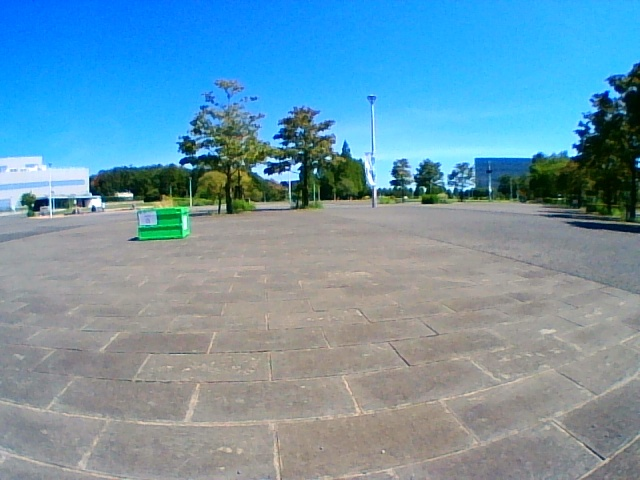green_box: (138, 207, 189, 239)
tag: (140, 212, 156, 224)
